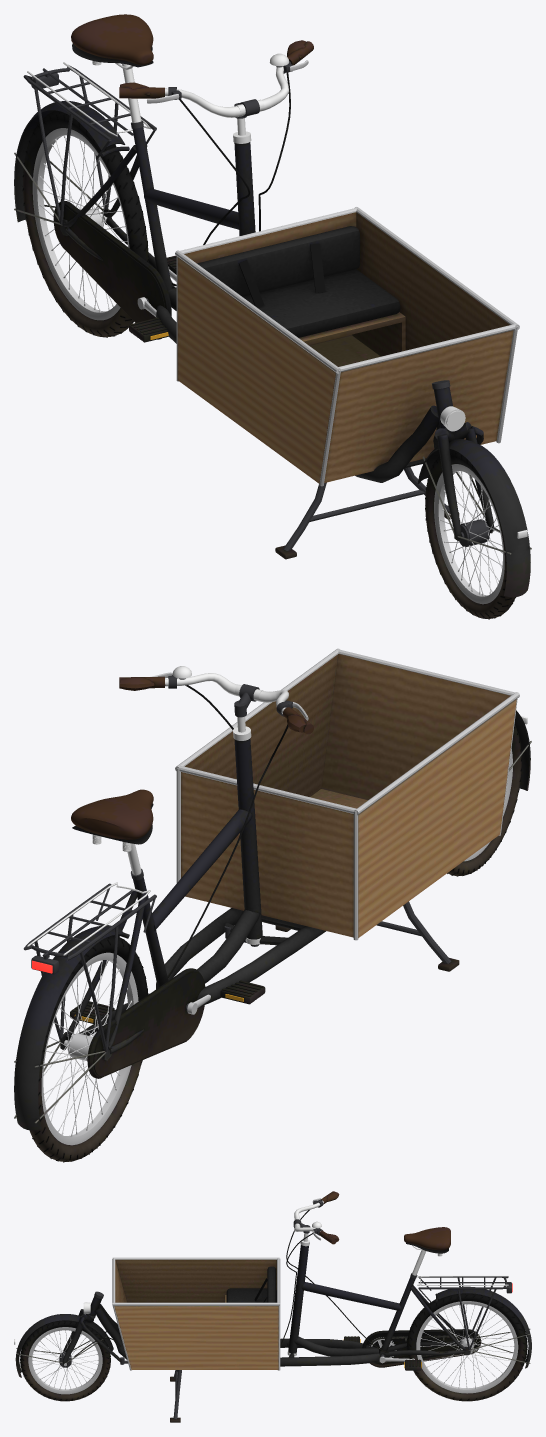
The model's file is cargo-bicycle.fbx.
3 renders of one model, top to bottom at view 1: azimuth 30°, elevation 25°; view 2: azimuth 150°, elevation 25°; view 3: azimuth 270°, elevation 25°, orthographic. The views are drawn at different scales.
Visible parts, largest first — view 1: body, fittings, fork_mesh, wheel_R_mesh, wheel_R_fittings, wheel_F_fittings, wheel_F_mesh, handlebar_fittings, handlebar_mesh, kickstand_fittings, fork_fittings; view 2: body, fittings, wheel_R_fittings, wheel_R_mesh, handlebar_fittings, wheel_F_mesh, handlebar_mesh, kickstand_fittings, fork_mesh, pedal_R_mesh; view 3: body, fittings, wheel_R_mesh, wheel_R_fittings, wheel_F_mesh, wheel_F_fittings, fork_mesh, handlebar_fittings, handlebar_mesh.
Part boxes in pixels (x1,y1,x2,y2): body: (14, 14, 513, 497); fittings: (23, 60, 519, 486); fork_mesh: (417, 422, 531, 597); wheel_R_mesh: (22, 110, 148, 337); wheel_R_fittings: (32, 128, 129, 320); wheel_F_fittings: (434, 464, 504, 604); wheel_F_mesh: (425, 449, 516, 619); handlebar_fittings: (147, 53, 308, 143); handlebar_mesh: (119, 40, 313, 199); kickstand_fittings: (283, 467, 449, 550); fork_fittings: (432, 380, 527, 538); body: (14, 654, 516, 1130); fittings: (23, 648, 519, 1052); wheel_R_fittings: (41, 952, 138, 1145); wheel_R_mesh: (29, 935, 147, 1162); handlebar_fittings: (150, 666, 308, 946); wheel_F_mesh: (447, 724, 521, 876); handlebar_mesh: (119, 676, 313, 782); kickstand_fittings: (376, 901, 451, 963); fork_mesh: (508, 710, 531, 790); pedal_R_mesh: (220, 980, 265, 1004); body: (74, 1227, 531, 1369); fittings: (112, 1245, 512, 1370); wheel_R_mesh: (406, 1293, 527, 1401); wheel_R_fittings: (416, 1301, 518, 1393); wheel_F_mesh: (20, 1320, 110, 1401); wheel_F_fittings: (28, 1327, 102, 1394); fork_mesh: (15, 1309, 120, 1377); handlebar_fittings: (287, 1198, 323, 1356); handlebar_mesh: (286, 1191, 339, 1272).
Size of the model in its own units: 64.68 by 117 by 288.
Materials: 9 (1 with a texture image).
